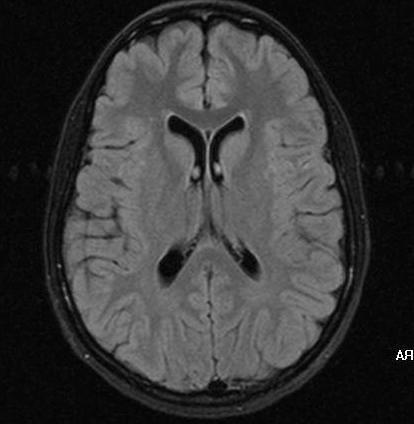Normal_Brain: (1, 1, 414, 424)
